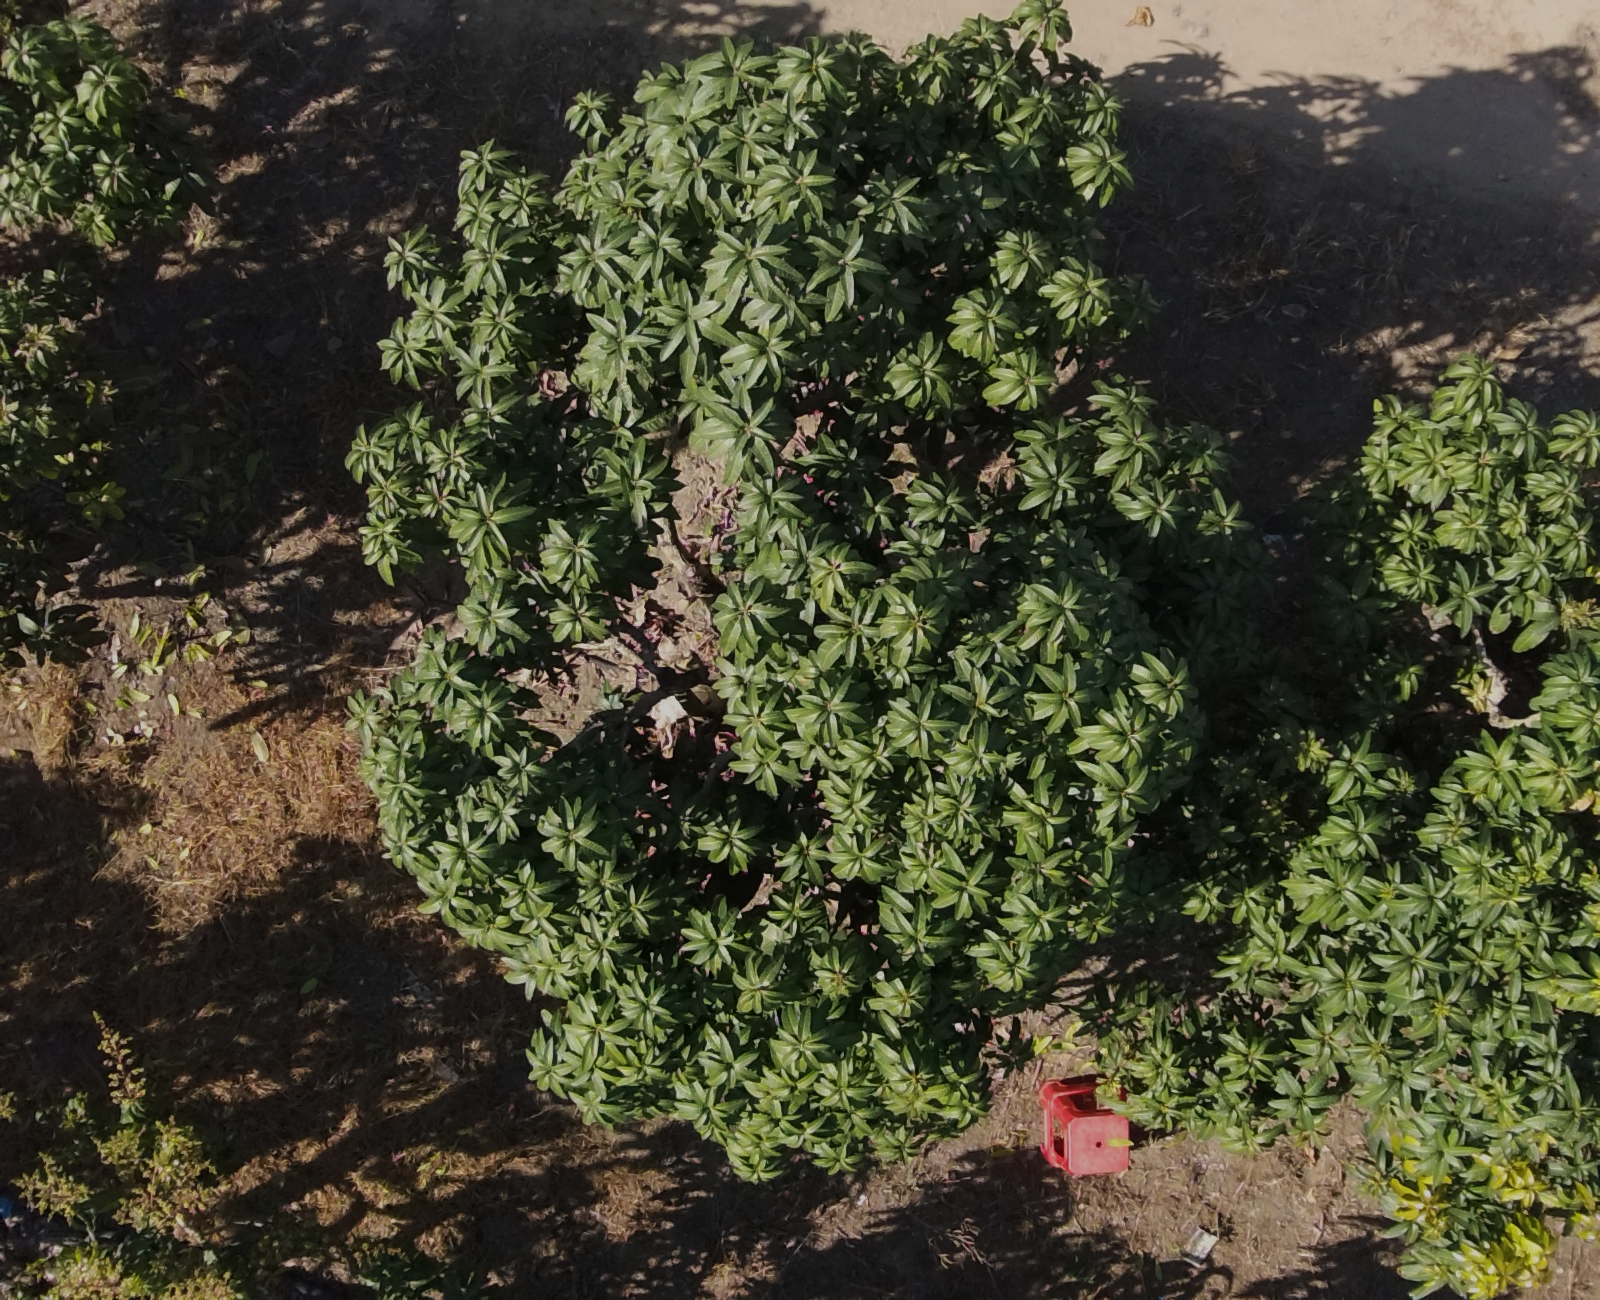flowers: (96, 1116, 226, 1232), (1, 1243, 122, 1300), (93, 1012, 147, 1109), (17, 1154, 92, 1218), (165, 1269, 236, 1300), (1562, 597, 1600, 630), (1, 1090, 15, 1120)
